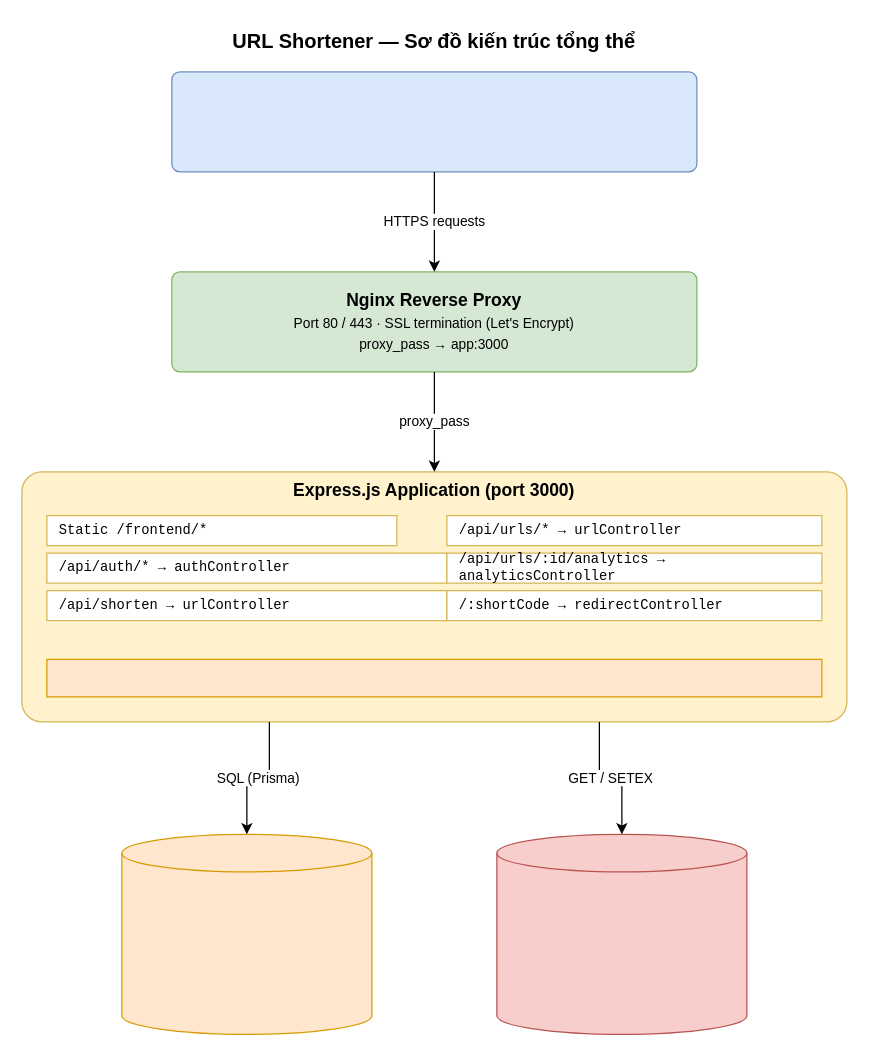
The diagram is 869 pixels wide and 1059 high, and some of its shapes have lost their labels. Here are the shapes that lost their labels. From the top down, the box of each, then its label:
(171, 71, 697, 172): Browser (Client) HTML5 / CSS3 / JavaScript Bootstrap 5 + Chart.js (CDN)
(46, 658, 822, 697): Middleware: trust proxy · cors · session(Redis) · rateLimiter · errorHandler
(121, 833, 372, 1034): MySQL 8.0 (Prisma ORM) Tables: • users • urls • click_events
(496, 833, 747, 1034): Redis 7 (ioredis) Session store: sess:<sid> URL cache: url:<code>
